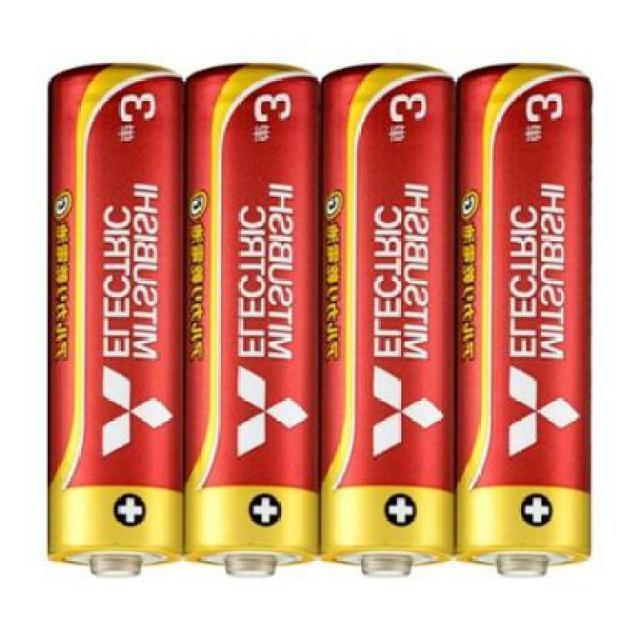AA: (456, 66, 594, 586), (48, 63, 184, 583), (186, 65, 322, 584), (322, 65, 456, 584)
